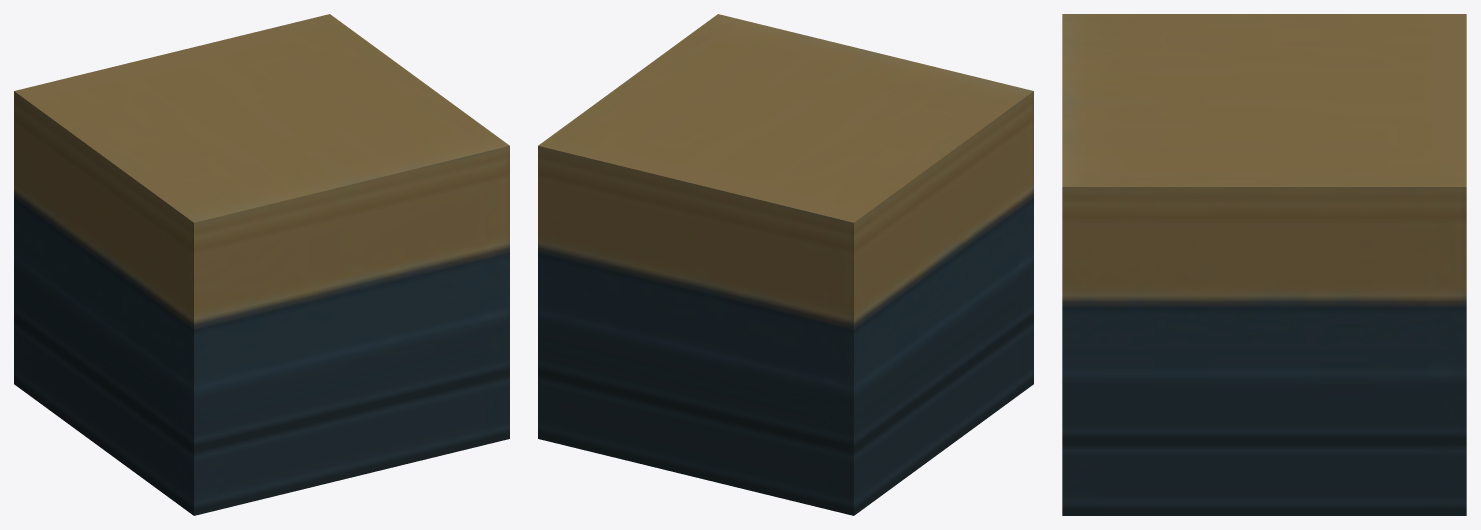
3 views of the same model, side by side, from view 1: azimuth 30°, elevation 25°; view 2: azimuth 150°, elevation 25°; view 3: azimuth 270°, elevation 25° (orthographic). The views are drawn at different scales.
Visible parts, largest first — view 1: ts_box003; view 2: ts_box003; view 3: ts_box003.
Boxes of the visible parts, x1,y1,x2,y2 form: ts_box003: (14, 14, 509, 515); ts_box003: (538, 14, 1033, 515); ts_box003: (1062, 14, 1466, 515).
Bounding box in the file's own units: 0.5049 × 0.4477 × 0.4984.
